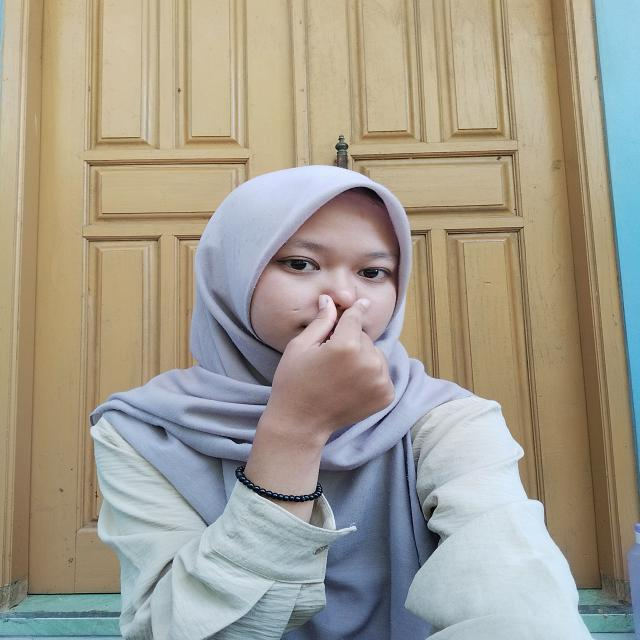bau: (256, 281, 412, 444)
